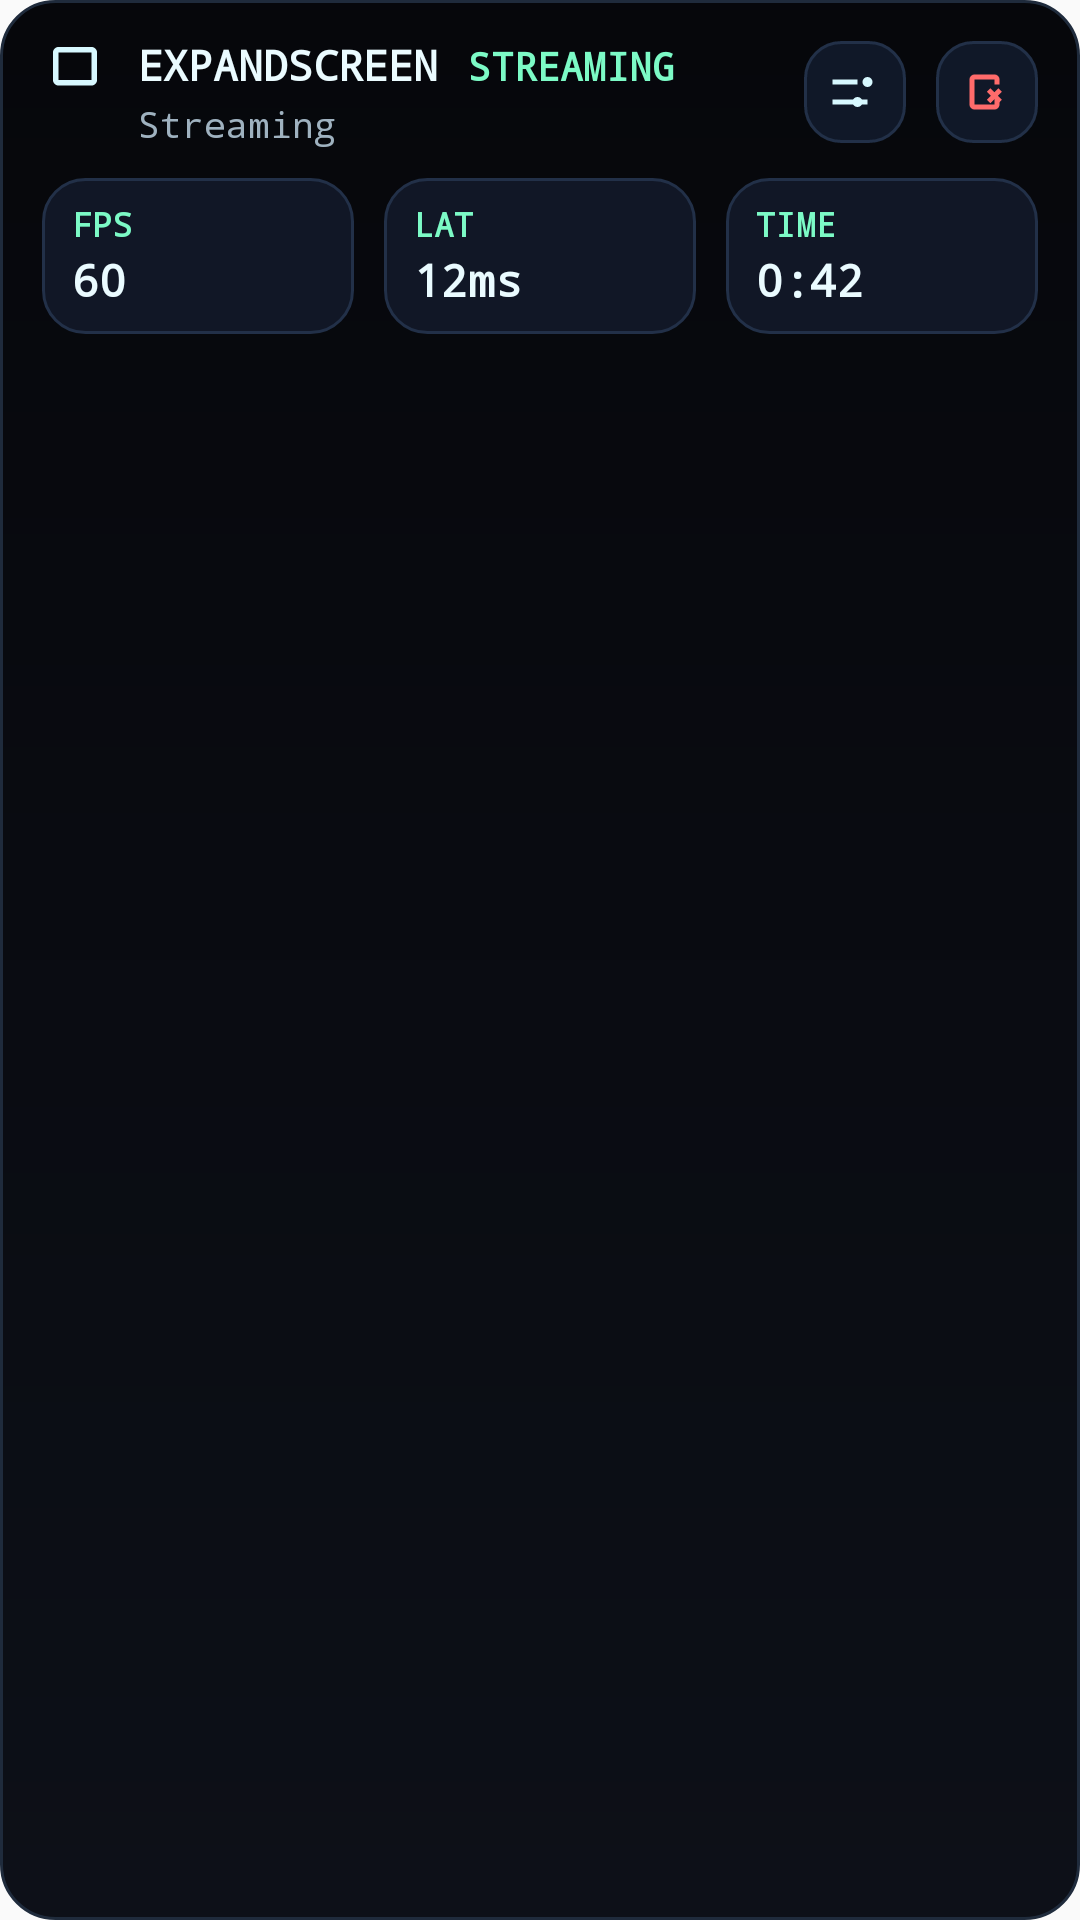

Named icons in this screenshot (1080 × 1920) and their bounding boxes, detection(x1, y1, x2, y2):
notif disconnect: detection(936, 41, 1038, 143)
notif tune: detection(804, 41, 906, 143)
